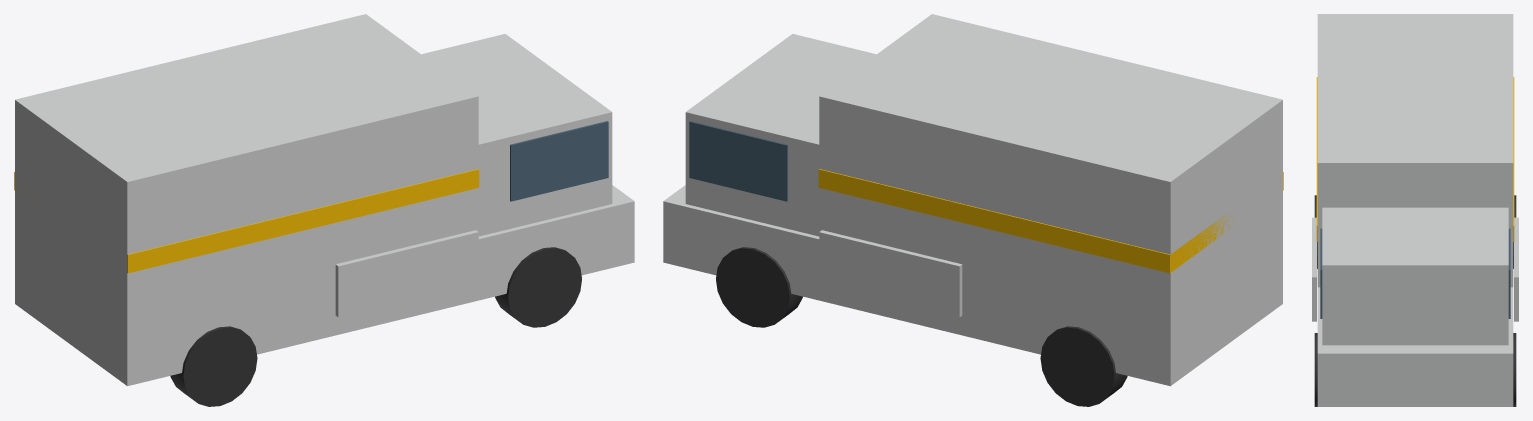
File: van.glb
3 renders of one model, left to right at view 1: azimuth 30°, elevation 25°; view 2: azimuth 150°, elevation 25°; view 3: azimuth 270°, elevation 25°, orthographic. The views are drawn at different scales.
Visible parts, largest first — view 1: box, body, cabin, door_L, stripe, glass, wheel_2, wheel_0; view 2: box, body, cabin, stripe, door_R, glass, wheel_3, wheel_1; view 3: box, cabin, body, stripe, glass, door_L, door_R, wheel_0, wheel_1.
Part boxes in pixels (x1,y1,x2,y2): box: [15, 14, 478, 324]; body: [15, 185, 634, 386]; cabin: [421, 34, 612, 236]; door_L: [335, 230, 478, 317]; stripe: [14, 169, 479, 273]; glass: [510, 121, 608, 201]; wheel_2: [170, 326, 257, 406]; wheel_0: [495, 247, 581, 327]; box: [819, 14, 1282, 324]; body: [663, 185, 1282, 386]; cabin: [685, 34, 876, 236]; stripe: [818, 169, 1283, 273]; door_R: [819, 230, 962, 317]; glass: [689, 121, 787, 201]; wheel_3: [1040, 326, 1127, 406]; wheel_1: [716, 247, 802, 327]; box: [1317, 14, 1513, 287]; cabin: [1322, 207, 1508, 345]; body: [1317, 287, 1513, 406]; stripe: [1316, 77, 1514, 241]; glass: [1320, 228, 1510, 318]; door_L: [1312, 217, 1316, 321]; door_R: [1514, 217, 1518, 321]; wheel_0: [1314, 333, 1317, 406]; wheel_1: [1513, 333, 1516, 406].
Bounding box in the file's own units: 5.2 × 2.4 × 2.11.
